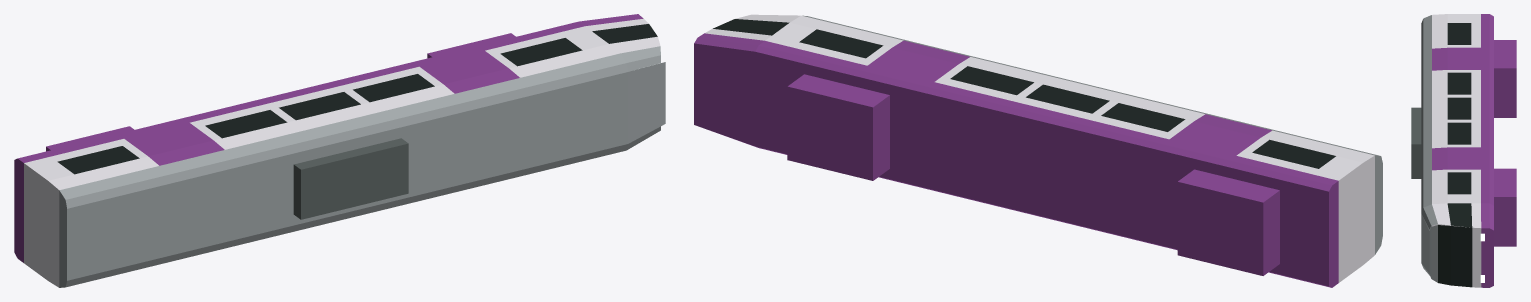
Rendered from train.glb.
3 renders of one model, left to right at view 1: azimuth 30°, elevation 25°; view 2: azimuth 150°, elevation 25°; view 3: azimuth 270°, elevation 25°, orthographic. The views are drawn at different scales.
Visible parts, largest first — view 1: body, cab; view 2: body, cab; view 3: body, cab.
Part boxes in pixels (x1=…): body: x1=14, y1=21, x2=627, y2=287; cab: x1=579, y1=14, x2=665, y2=149; body: x1=755, y1=15, x2=1382, y2=287; cab: x1=694, y1=14, x2=800, y2=147; body: x1=1411, y1=14, x2=1516, y2=246; cab: x1=1421, y1=203, x2=1493, y2=287.
Bounding box in the file's own units: 20.75 × 3.2 × 4.42.
